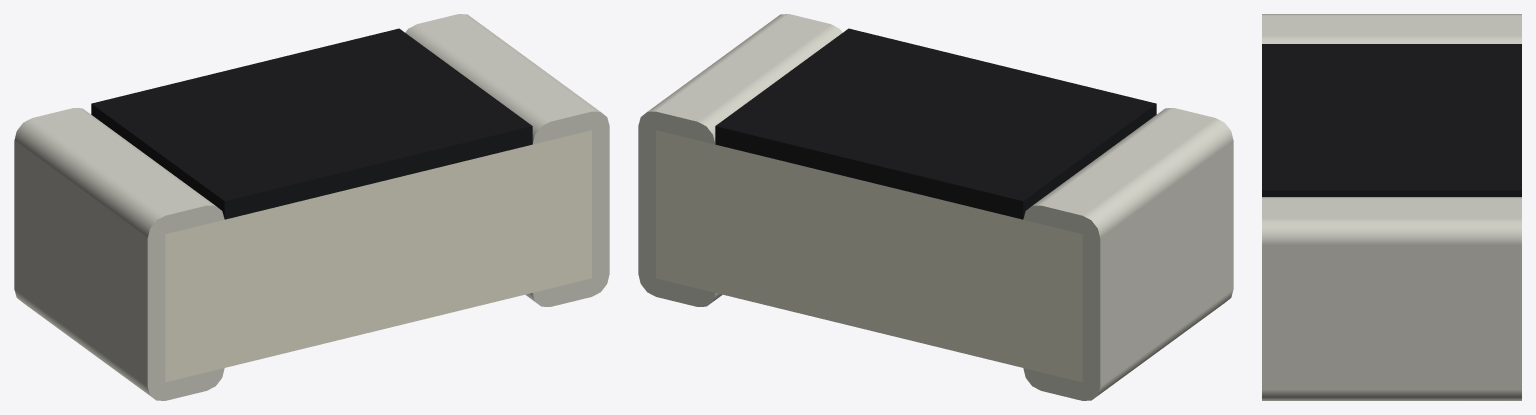
The picture shows the model from 3 angles, left to right: view 1: azimuth 30°, elevation 25°; view 2: azimuth 150°, elevation 25°; view 3: azimuth 270°, elevation 25°; orthographic projection. The views are drawn at different scales.
Visible parts, largest first — view 1: =>[0:1:1:3]; view 2: =>[0:1:1:3]; view 3: =>[0:1:1:3].
Part boxes in pixels (bbox=[...]): =>[0:1:1:3]: bbox=[14, 14, 609, 400]; =>[0:1:1:3]: bbox=[638, 14, 1233, 400]; =>[0:1:1:3]: bbox=[1262, 14, 1521, 400].
Size of the model in its own units: 0.0006 by 0.00023 by 0.0003.
